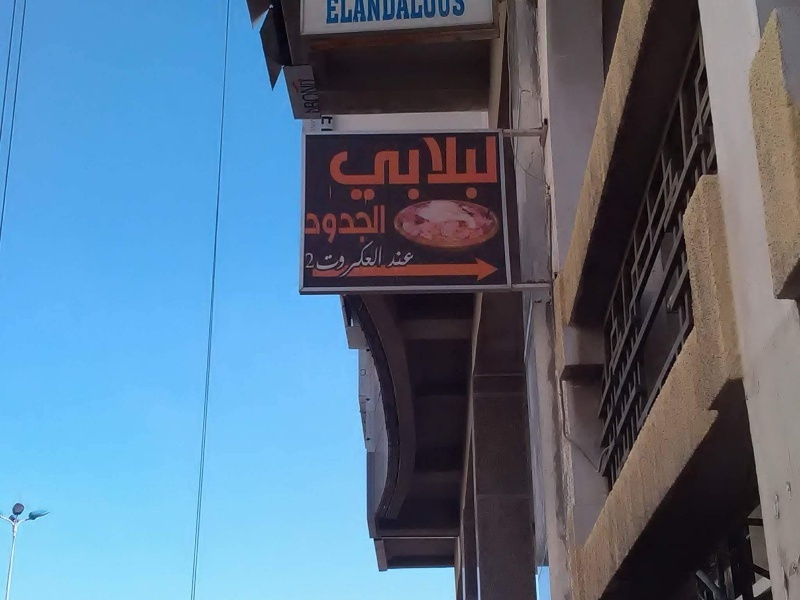text: (337, 136, 352, 201), (353, 136, 368, 201), (369, 136, 384, 201), (385, 136, 400, 201), (401, 136, 416, 201), (417, 136, 432, 201), (433, 136, 448, 201), (449, 136, 464, 201), (465, 136, 480, 201), (481, 136, 496, 201), (321, 239, 336, 279), (337, 239, 352, 279), (353, 239, 368, 279), (305, 204, 320, 243), (321, 204, 336, 243), (337, 204, 352, 243), (353, 204, 368, 243), (369, 204, 384, 243), (369, 239, 383, 279), (305, 79, 320, 115), (329, 136, 336, 201), (337, 1, 352, 29), (353, 1, 368, 29), (369, 1, 384, 29), (385, 1, 400, 29), (401, 1, 416, 29), (417, 1, 432, 29), (433, 1, 448, 29), (449, 1, 464, 29), (322, 1, 336, 29), (322, 115, 336, 134), (401, 251, 415, 269), (388, 251, 400, 269), (305, 252, 315, 270), (300, 79, 304, 115), (465, 1, 470, 29), (497, 136, 499, 201), (385, 204, 386, 243), (321, 79, 322, 115)
